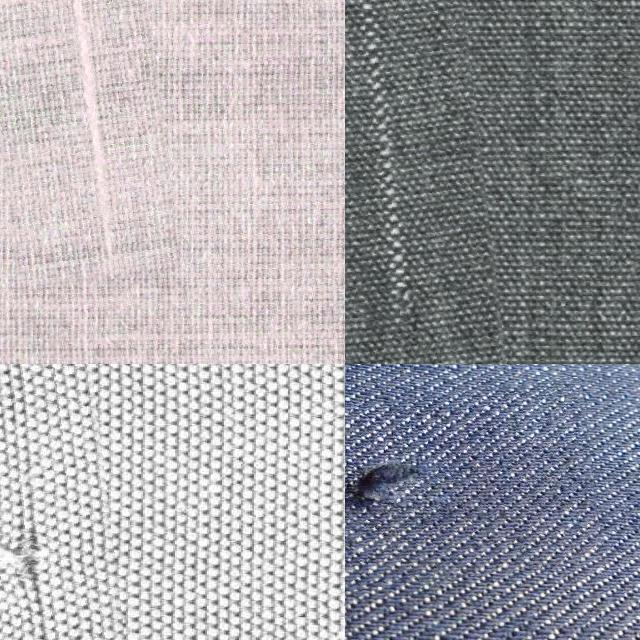Thread_other: (345, 392, 599, 606), (345, 0, 494, 364), (0, 364, 134, 640)
